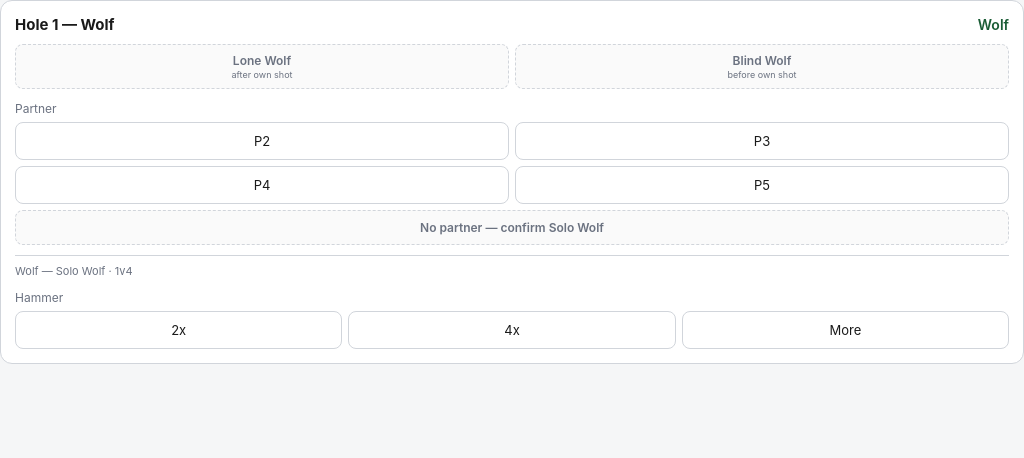
WolfHoleCard — Hammer entry › tapping 2x selects it, and the resolution question appears
The width and height of the screenshot is (1024, 458).
Click the button "2x" at (179, 330), box [15,311,342,349]
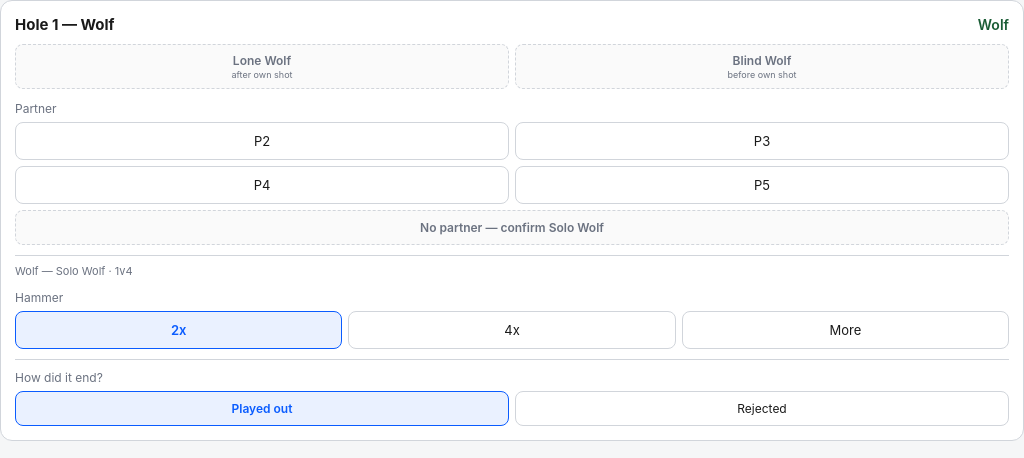
Expected: the text "How did it end?" is shown, [15,370,103,385]
Expected: the button "Played out" is shown, [15,391,509,426]
